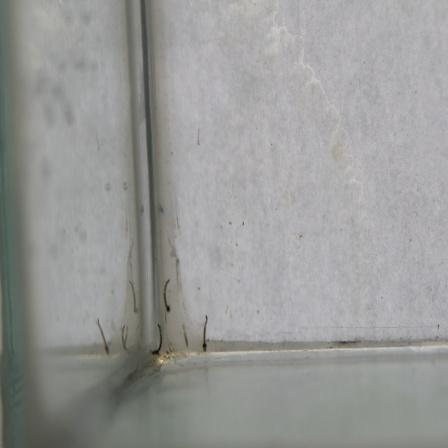Jentik-Nyamuk: (148, 320, 167, 358), (197, 313, 213, 355), (160, 277, 175, 314)
